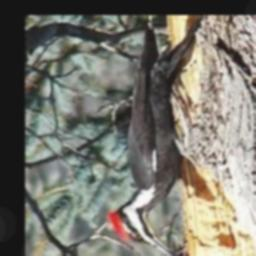Woodpecker: (109, 16, 202, 256)
